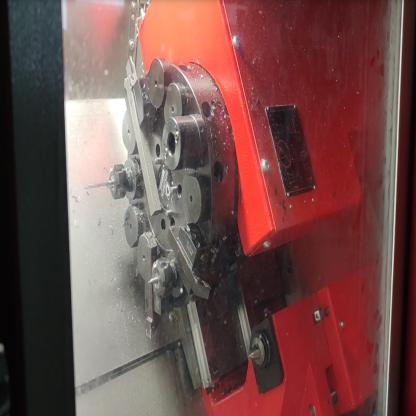bit: (120, 50, 165, 220), (164, 218, 217, 308), (139, 238, 169, 342)
